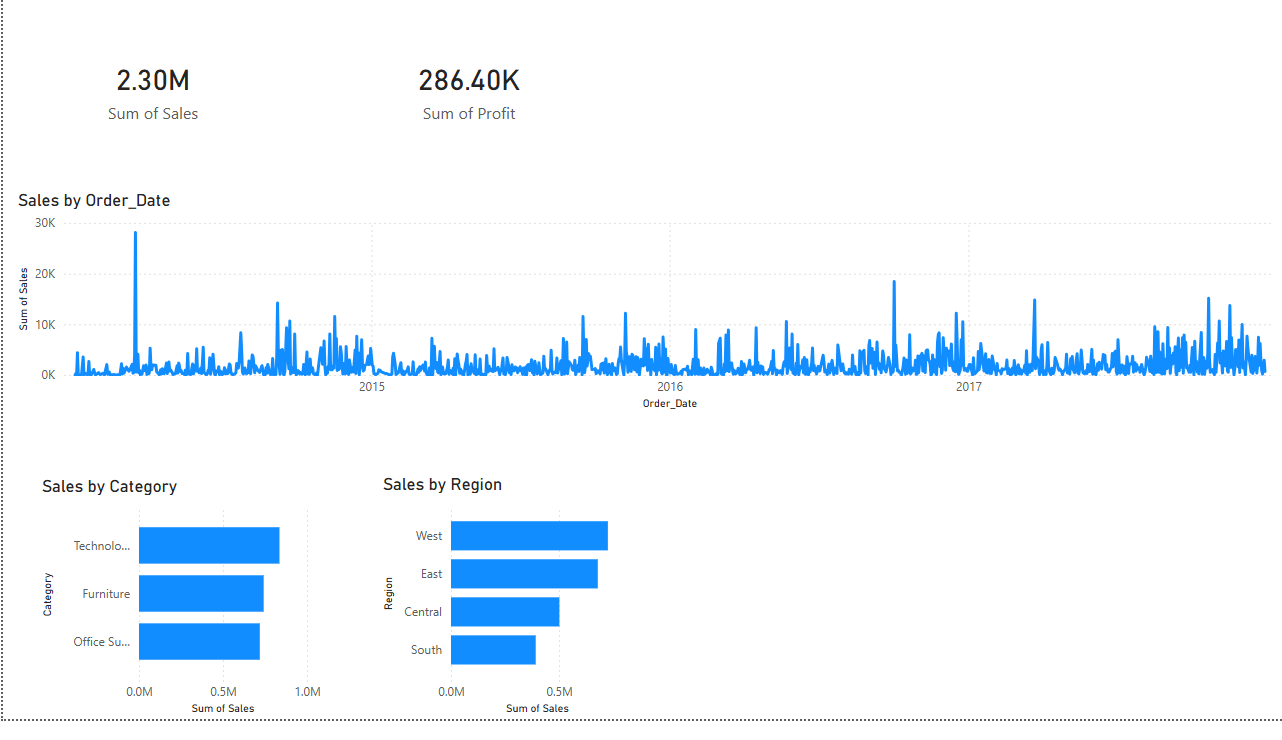

This screenshot's page, from the dashboard's own definition file:
{"tool":"powerbi","page":{"name":"Page 1","canvas":[1280,720],"ordinal":0},"visuals":[{"type":"card","fields":{"Values":["Sum(cleaned_sales.Sales)"]},"box":[10,0,280,178],"z":0},{"type":"card","fields":{"Values":["Sum(cleaned_sales.Profit)"]},"box":[326,0,280,178],"z":1000},{"type":"lineChart","title":"Sales Trend Over Time","fields":{"Y":["Sum(cleaned_sales.Sales)"],"Category":["cleaned_sales.Order_Date"]},"box":[10,191,1270,224],"z":2000},{"type":"clusteredBarChart","title":"Sales by Category","fields":{"Category":["cleaned_sales.Category"],"Y":["Sum(cleaned_sales.Sales)"]},"box":[34,477,289,243],"z":2001},{"type":"clusteredBarChart","title":"Sales by Region","fields":{"Category":["cleaned_sales.Region"],"Y":["Sum(cleaned_sales.Sales)"]},"box":[375,475,265,245],"z":2002}]}

Visuals, with their boxes in screenshot pixels (x1, y1, x2, y2), scaled from the page's 1280x720 canvas onto the 1282x740 screenshot:
card - Sum(cleaned_sales.Sales): x1=10, y1=0, x2=290, y2=183
card - Sum(cleaned_sales.Profit): x1=327, y1=0, x2=607, y2=183
"Sales Trend Over Time" lineChart: x1=10, y1=196, x2=1281, y2=427
"Sales by Category" clusteredBarChart: x1=34, y1=490, x2=324, y2=739
"Sales by Region" clusteredBarChart: x1=376, y1=488, x2=641, y2=739
